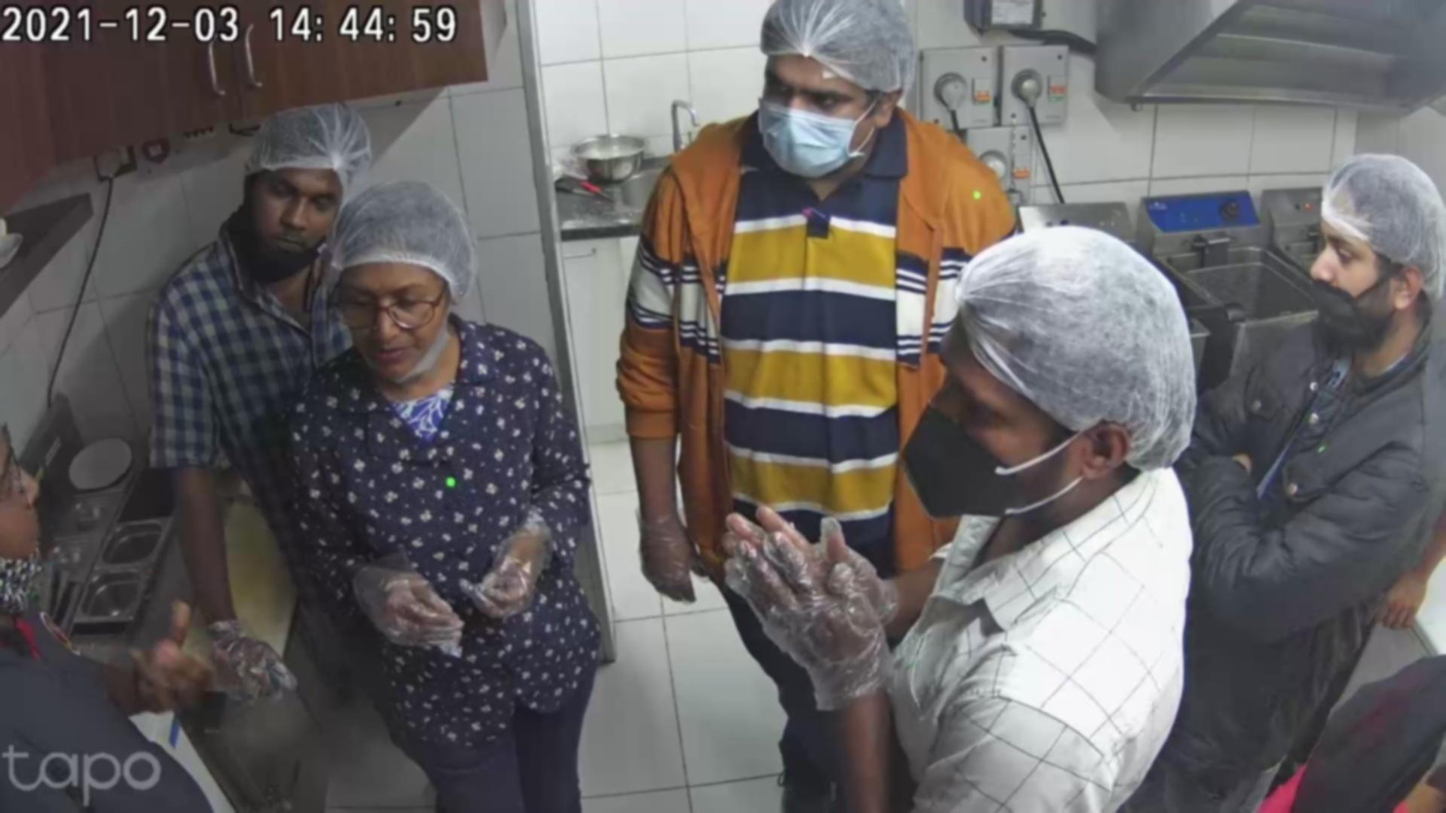apron: (706, 485, 917, 722), (453, 500, 569, 633), (613, 475, 715, 604), (337, 563, 464, 665), (194, 595, 299, 718)
gloves: (950, 214, 1203, 477), (734, 1, 933, 116), (327, 174, 489, 303), (1311, 151, 1446, 257), (247, 99, 380, 191)
hairnet: (1281, 242, 1435, 352), (348, 258, 451, 389), (236, 144, 328, 280), (0, 472, 67, 621)
mask: (934, 353, 1033, 526), (758, 66, 865, 185)
no_apron: (91, 588, 221, 723)
